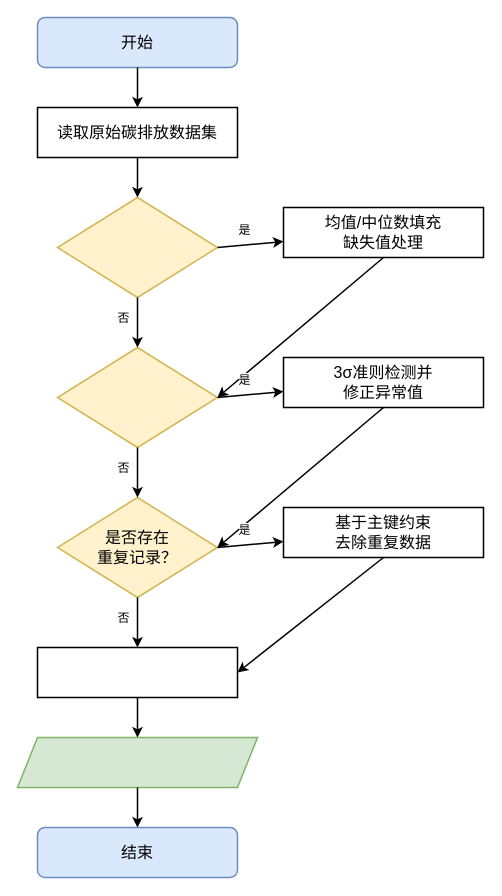
This 502x896 diagram has some shape labels left out. Here are the shapes that lost their labels. From the top down, the centre of each, then its label:
pixel 137 247: 是否存在 缺失值？
pixel 137 397: 是否存在 异常值？
pixel 137 672: 数据标准化与格式统一
pixel 137 762: 输出清洗后的数据集
